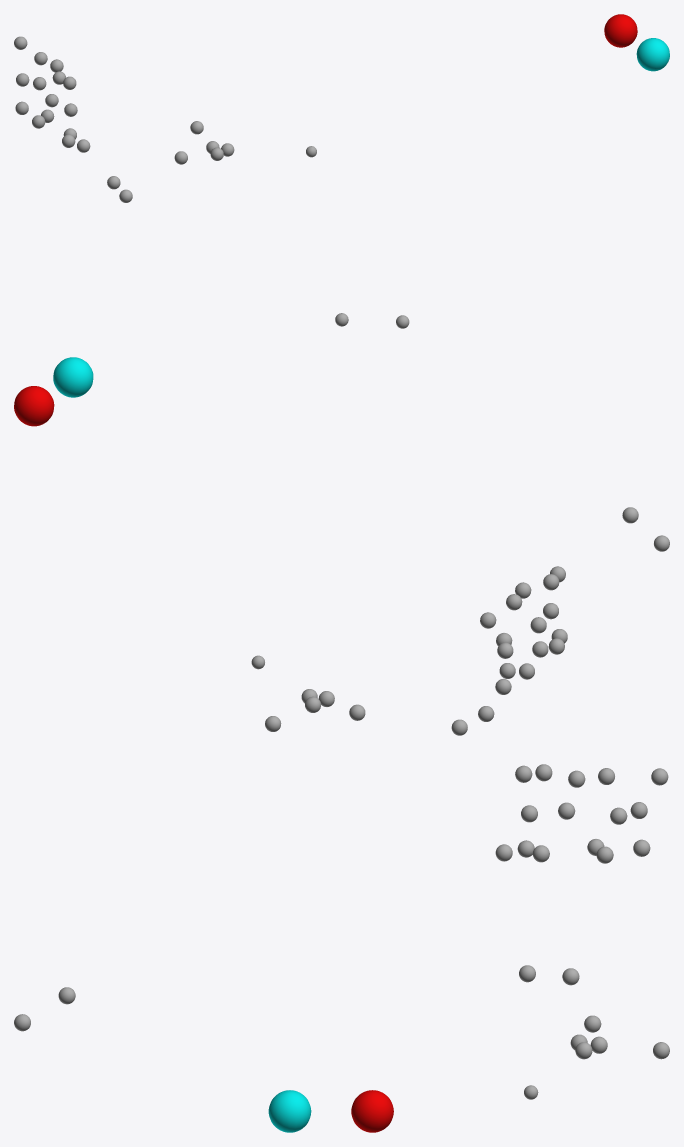
The model's file is Cannonballs.fbx.
3 views of the same model, one above another, from view 1: azimuth 30°, elevation 25°; view 2: azimuth 150°, elevation 25°; view 3: azimuth 270°, elevation 25° (orthographic). The views are drawn at different scales.
Visible parts, largest first — view 1: pSphere1, pSphere2; view 2: pSphere2, pSphere1; view 3: pSphere1, pSphere2.
Part boxes in pixels (<box>): pSphere1: <box>604,14,637,47</box>; pSphere2: <box>636,38,669,71</box>; pSphere2: <box>53,357,93,397</box>; pSphere1: <box>14,386,54,426</box>; pSphere1: <box>351,1090,393,1132</box>; pSphere2: <box>268,1090,311,1132</box>.
Size of the model in its own units: 6.62 by 1.74 by 5.72.
